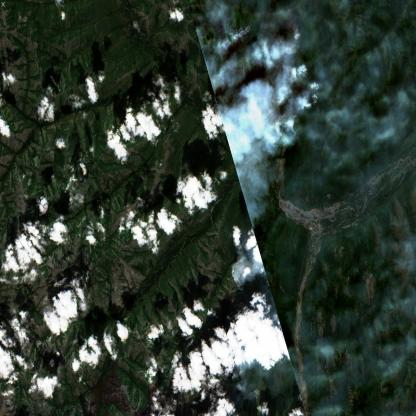fire: (279, 19, 326, 124), (226, 17, 255, 44)
